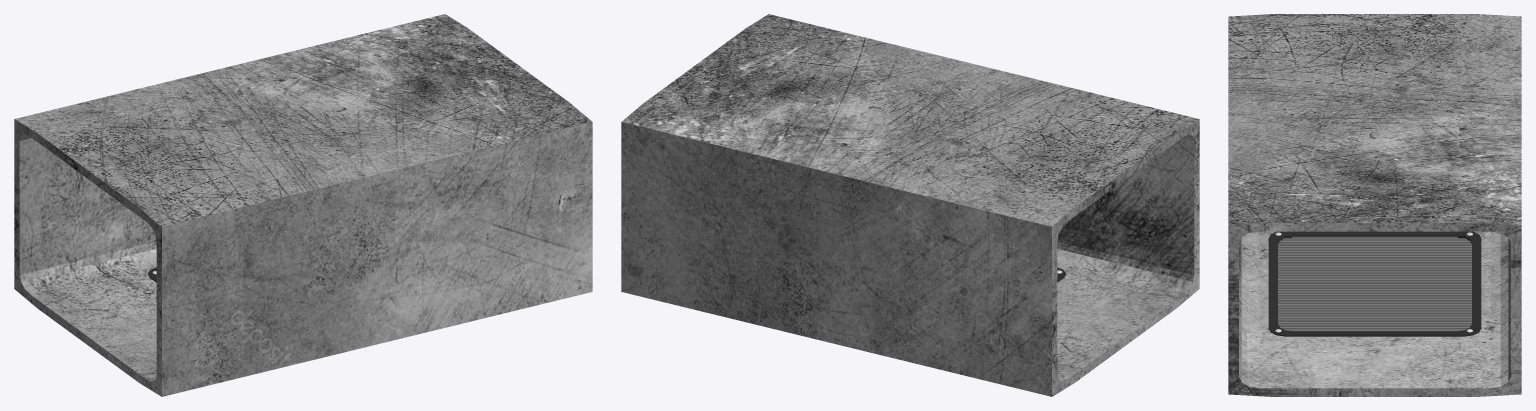
The model's file is vent_holes.fbx.
3 views of the same model, side by side, from view 1: azimuth 30°, elevation 25°; view 2: azimuth 150°, elevation 25°; view 3: azimuth 270°, elevation 25° (orthographic).
Parts seen in each view (by area): view 1: Cube.001; view 2: Cube.001; view 3: Cube.001, Cube, Cube.003.
Boxes of the visible parts, x1,y1,x2,y2 form: Cube.001: [14, 14, 592, 396]; Cube.001: [621, 14, 1199, 396]; Cube.001: [1228, 14, 1521, 396]; Cube: [1278, 236, 1471, 331]; Cube.003: [1268, 231, 1481, 336].
Bounding box in the file's own units: 4000 × 2371 × 1558.
